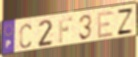2: (37, 19, 55, 49)
3: (78, 14, 93, 40)
C: (18, 23, 33, 50)
E: (97, 9, 114, 40)
F: (58, 16, 73, 44)
Z: (116, 8, 135, 37)
